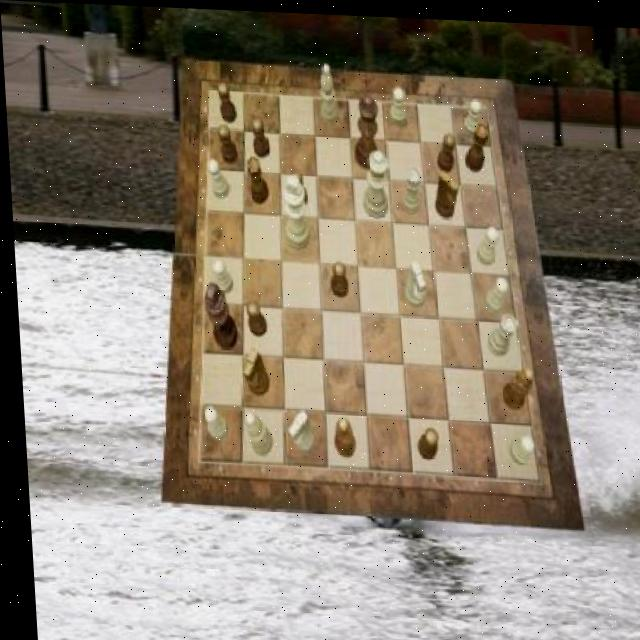bishop: (496, 362, 531, 405), (329, 415, 352, 456)
black-bishop: (201, 281, 236, 348)
black-king: (239, 346, 267, 393), (433, 167, 460, 215)
black-knight: (216, 123, 237, 164), (217, 81, 237, 122), (436, 129, 455, 170), (287, 167, 306, 206), (251, 116, 269, 157), (243, 299, 264, 334), (413, 425, 435, 458), (327, 259, 346, 294)
black-pawn: (352, 91, 381, 168)
black-queen: (462, 119, 488, 169), (244, 155, 267, 203)
black-rook: (318, 60, 338, 123), (242, 409, 268, 454)
white-bishop: (280, 171, 308, 247)
white-king: (283, 406, 311, 449), (401, 257, 425, 303)
white-knight: (481, 272, 507, 310), (473, 222, 497, 262), (198, 403, 223, 438), (207, 158, 229, 197), (461, 94, 482, 133), (506, 430, 531, 462), (209, 256, 230, 291), (388, 84, 405, 123)
white-pawn: (359, 146, 389, 215)
white-queen: (483, 309, 516, 352), (396, 163, 421, 211)
